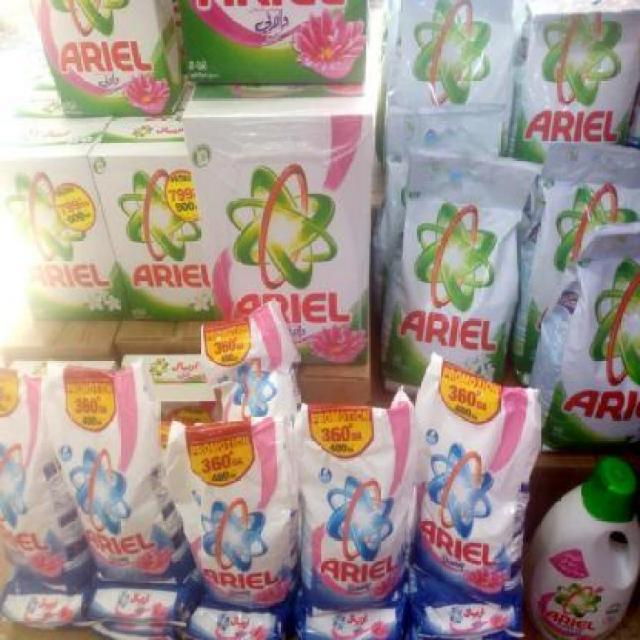Detergent: (194, 94, 362, 317), (412, 352, 536, 598), (386, 164, 512, 384), (48, 362, 164, 584), (5, 103, 116, 326), (178, 401, 295, 607), (298, 397, 416, 598), (506, 0, 640, 162), (97, 118, 204, 320), (530, 457, 639, 638), (546, 239, 640, 446), (43, 0, 182, 122), (2, 367, 76, 588)
